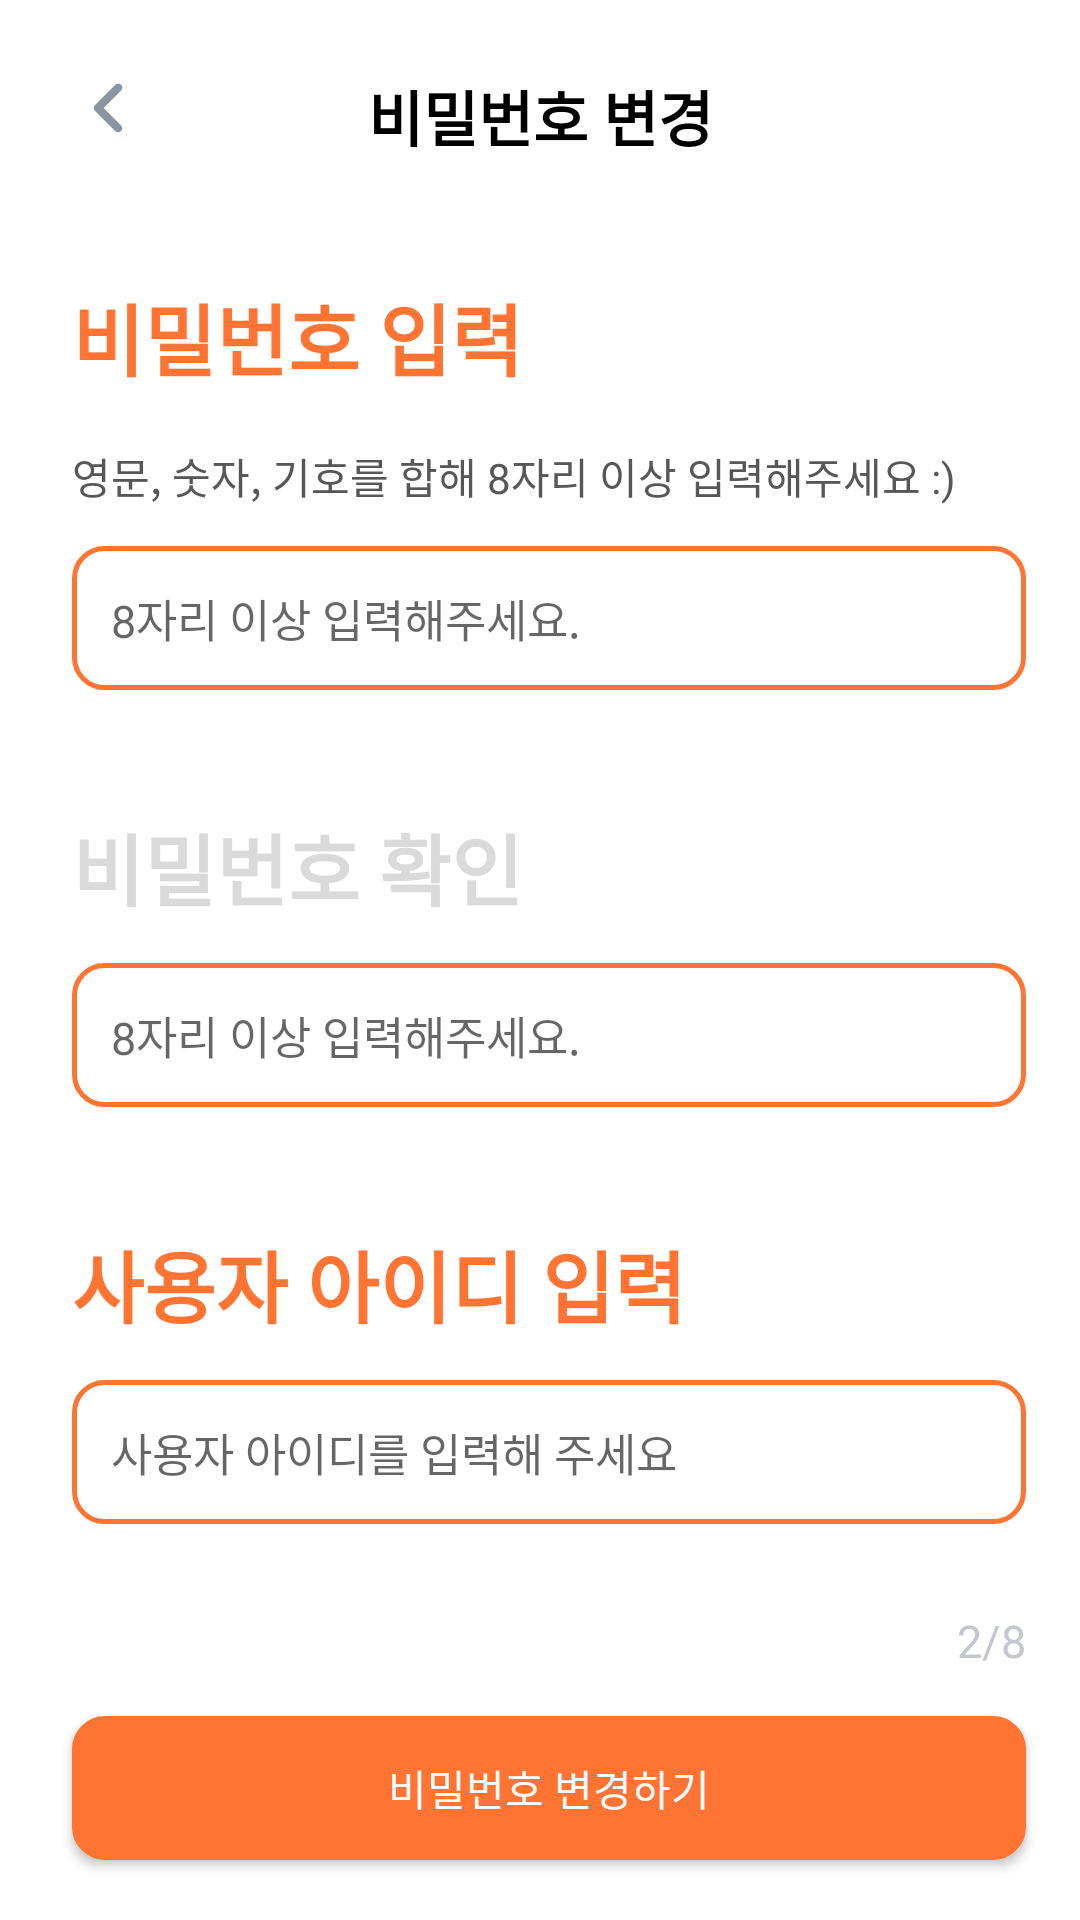

Point at icon controls on the screen. Image size 1080w x 1920h, points as (x,y).
arrow left mono: (108,108)
